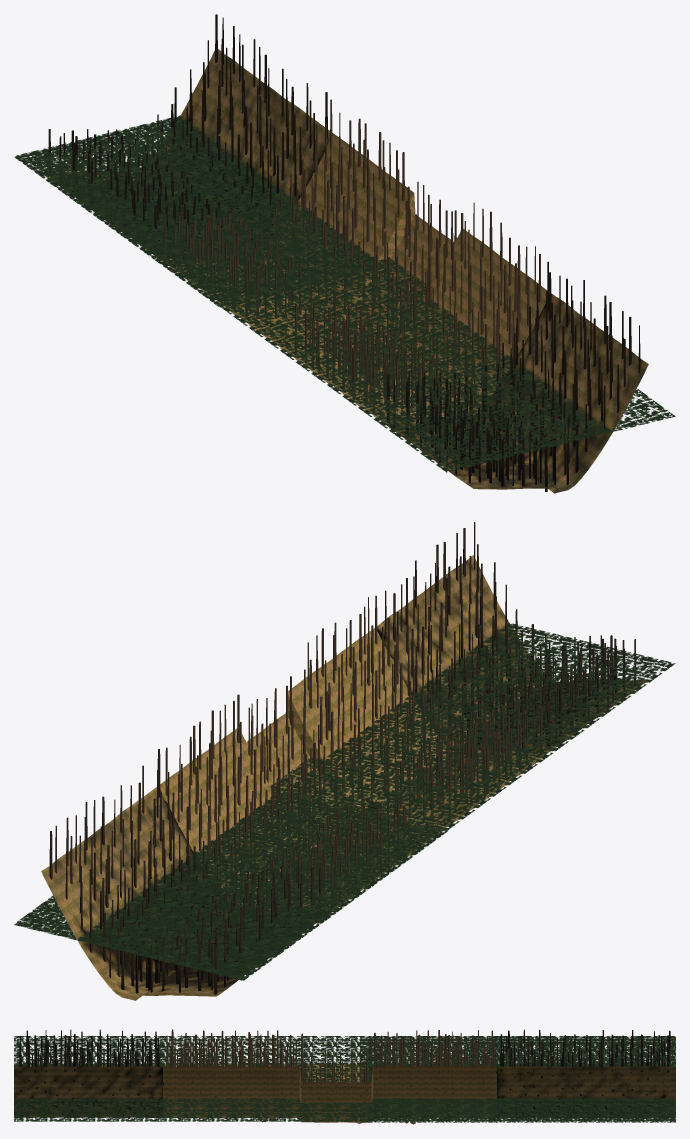
File: space01.glb
3 views of the same model, one above another, from view 1: azimuth 30°, elevation 25°; view 2: azimuth 150°, elevation 25°; view 3: azimuth 270°, elevation 25° (orthographic). The views are drawn at different scales.
Parts seen in each view (by area): view 1: canopy_a, space01_vlit, space01_static, canopy_b; view 2: canopy_a, space01_vlit, space01_static, canopy_b; view 3: canopy_a, space01_static, space01_vlit, canopy_b.
Boxes of the visible parts, left/top/right/bottom form: canopy_a: left=15, top=115, right=675, bottom=472; space01_vlit: left=43, top=14, right=648, bottom=493; space01_static: left=162, top=99, right=547, bottom=421; canopy_b: left=14, top=119, right=395, bottom=307; canopy_a: left=15, top=623, right=675, bottom=979; space01_vlit: left=41, top=522, right=645, bottom=1000; space01_static: left=160, top=595, right=550, bottom=910; canopy_b: left=14, top=788, right=448, bottom=980; canopy_a: left=14, top=1036, right=675, bottom=1121; space01_static: left=163, top=1029, right=496, bottom=1124; space01_vlit: left=14, top=1029, right=675, bottom=1118; canopy_b: left=360, top=1036, right=675, bottom=1122.
Size of the model in its own units: 68 by 42.19 by 222.
Materials: 27 (23 with a texture image).
